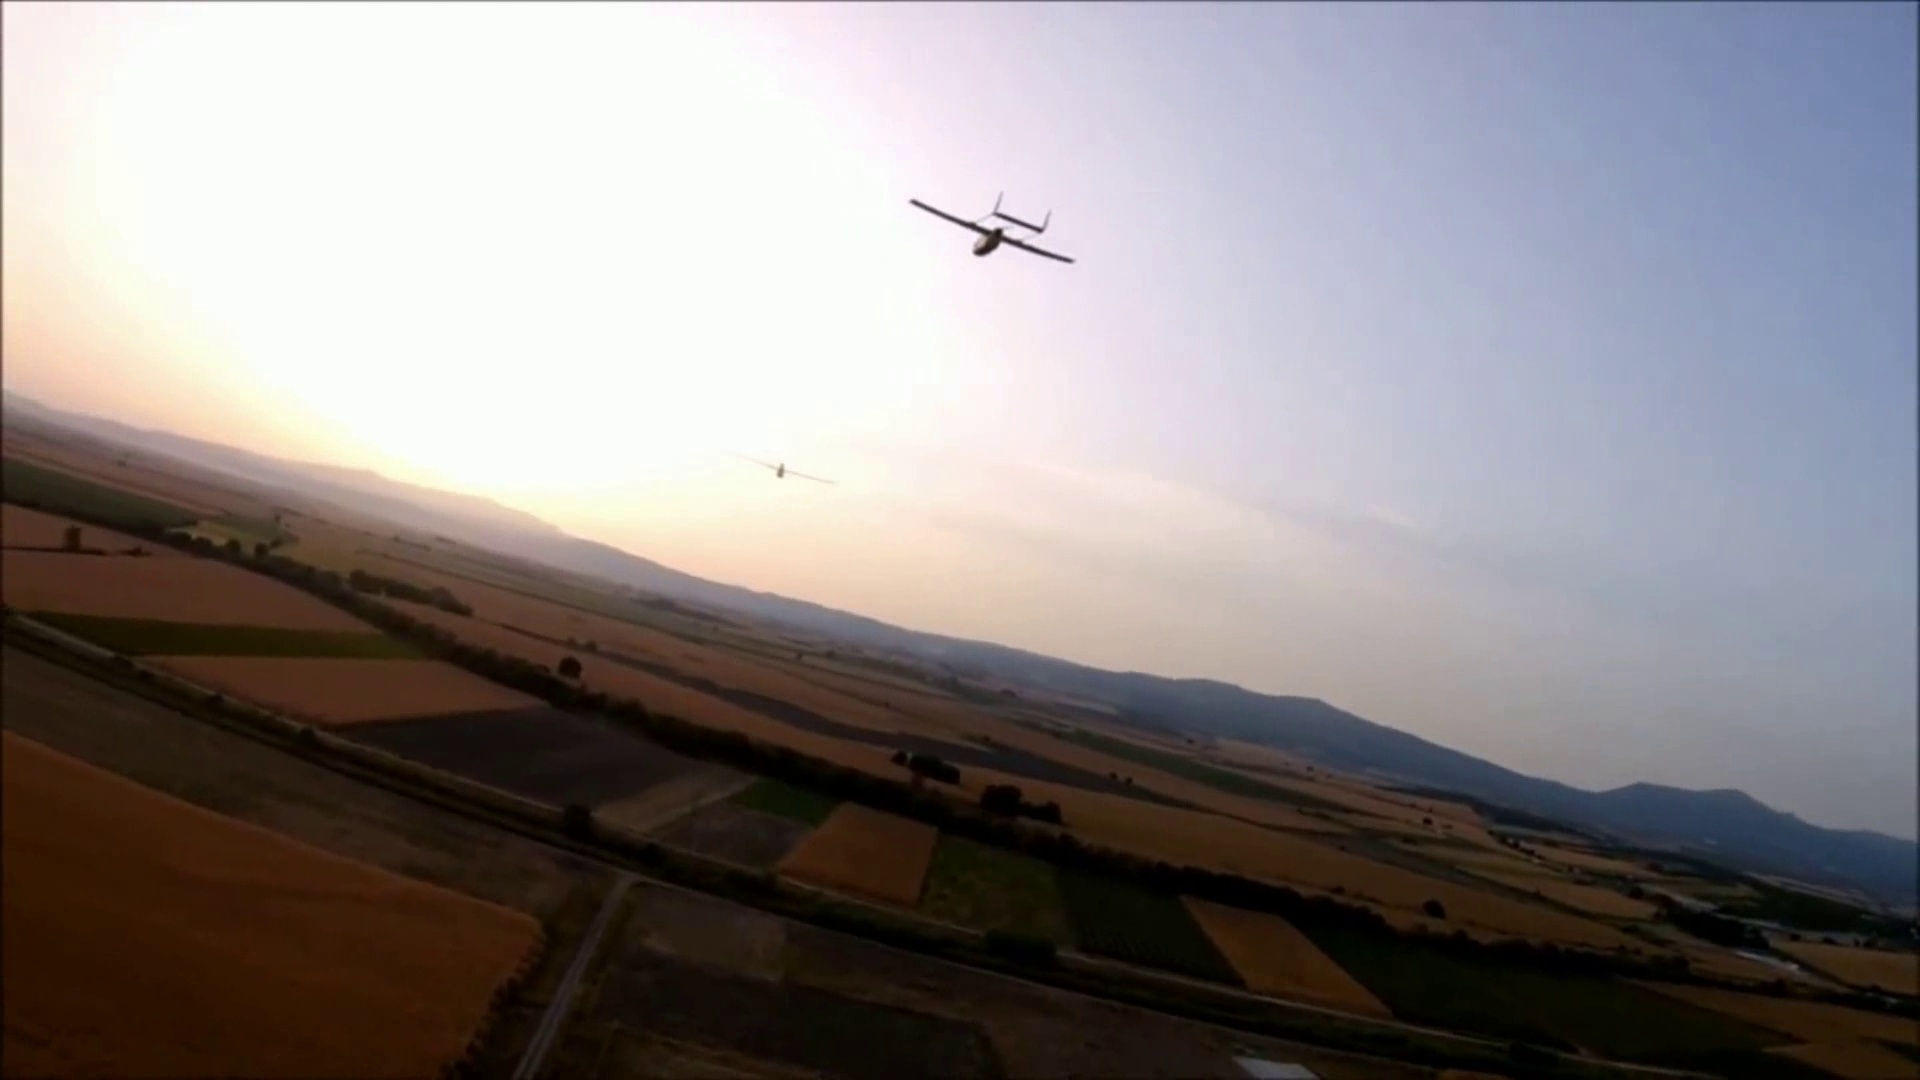airplane: (904, 191, 1078, 266)
